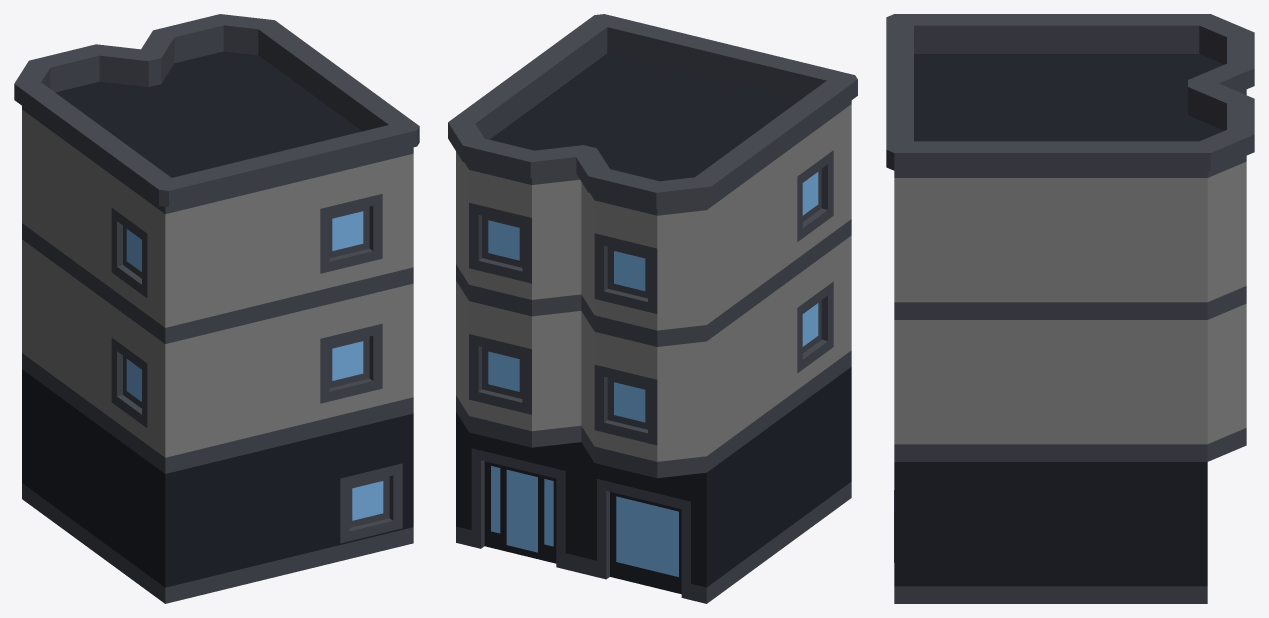
The model's file is variant_2.obj.
3 renders of one model, left to right at view 1: azimuth 30°, elevation 25°; view 2: azimuth 150°, elevation 25°; view 3: azimuth 270°, elevation 25°, orthographic. The views are drawn at different scales.
Parts seen in each view (by area): view 1: Building_copy, Window_copy; view 2: Building_copy; view 3: Building_copy.
Boxes of the visible parts, x1,y1,x2,y2 form: Building_copy: [14, 14, 419, 603]; Window_copy: [340, 463, 402, 543]; Building_copy: [448, 14, 857, 603]; Building_copy: [886, 14, 1254, 603].
Size of the model in its own units: 0.84 by 1.28 by 0.94.
